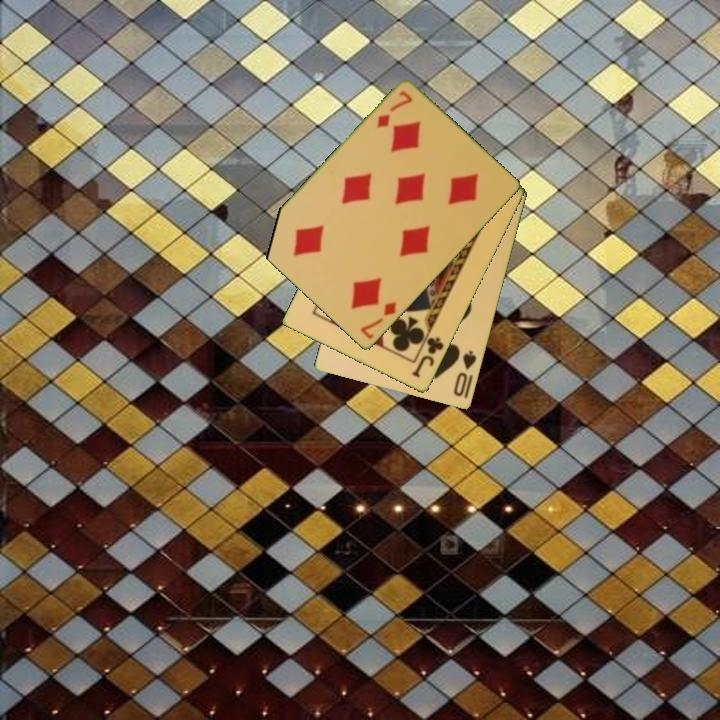10s: (450, 347, 480, 400)
7d: (373, 87, 415, 131), (357, 299, 399, 342)
Jc: (408, 334, 447, 381)
